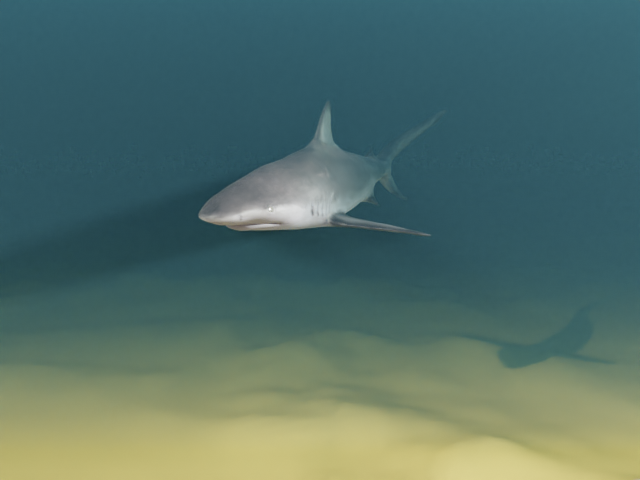Carribean Shark.001: (198, 100, 446, 236)
